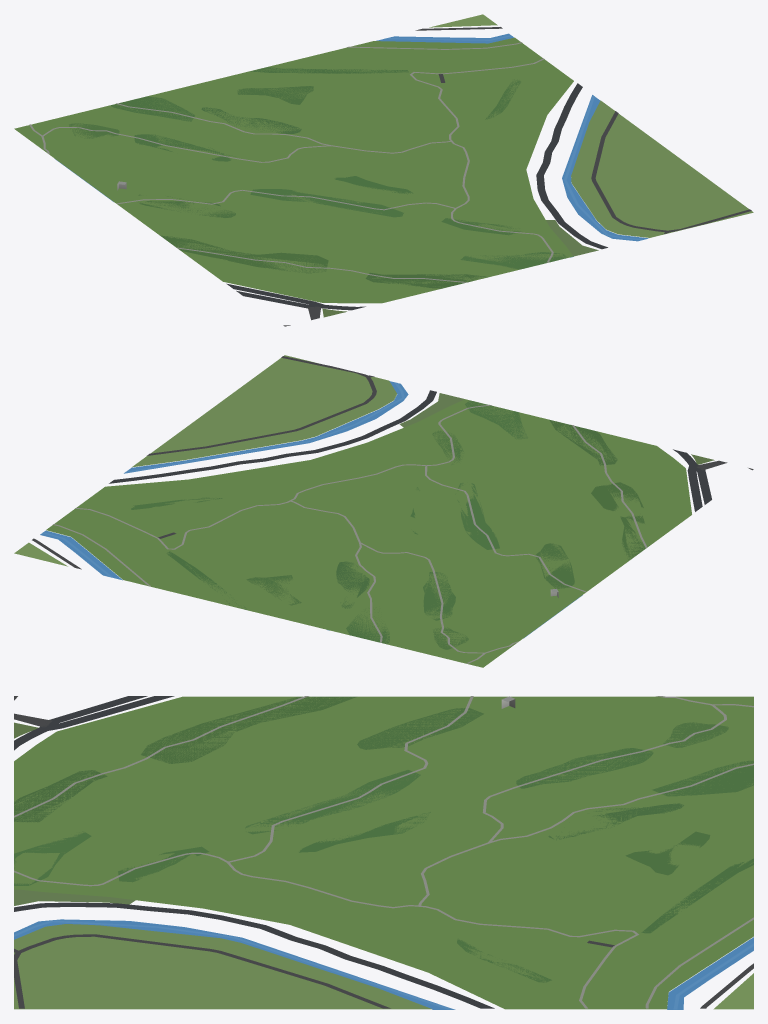
3 renders of one model, top to bottom at view 1: azimuth 30°, elevation 25°; view 2: azimuth 150°, elevation 25°; view 3: azimuth 270°, elevation 25°, orthographic. The views are drawn at different scales.
Parts seen in each view (by area): view 1: ground, water; view 2: ground, water; view 3: ground, water.
Boxes of the visible parts, left/top/right/bottom form: ground: left=14, top=14, right=753, bottom=326; water: left=54, top=33, right=648, bottom=257; ground: left=14, top=355, right=753, bottom=667; water: left=40, top=381, right=582, bottom=638; ground: left=14, top=696, right=753, bottom=1009; water: left=14, top=919, right=753, bottom=1009.
Bounding box in the file's own units: 500 × 8 × 500.
